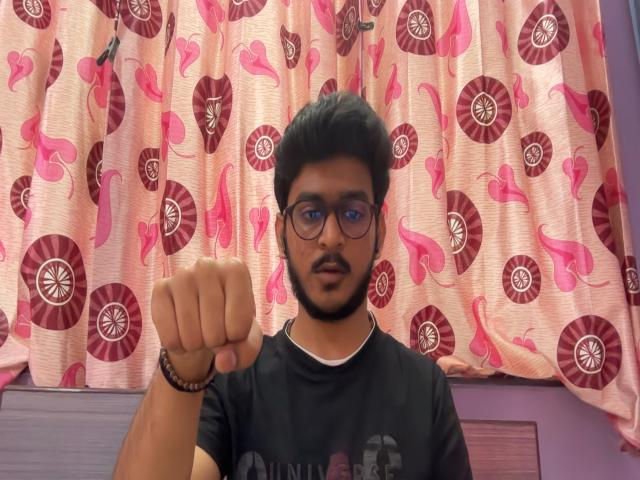Yes: (142, 249, 274, 381)
